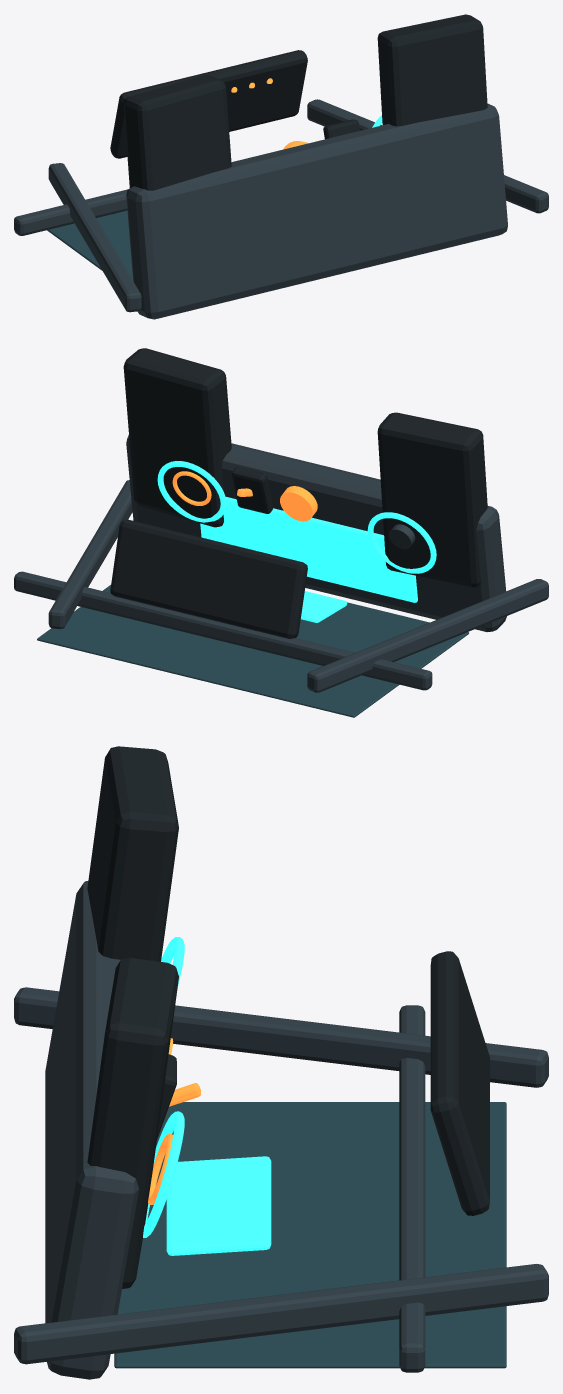
The model's file is cockpit_blockout.glb.
The picture shows the model from 3 angles, top to bottom: view 1: azimuth 30°, elevation 25°; view 2: azimuth 150°, elevation 25°; view 3: azimuth 270°, elevation 25°; orthographic projection. The views are drawn at different scales.
Parts seen in each view (by area): view 1: DashboardLower, SideConsole_+1, SideConsole_-1, OverheadPanel, CanopyStrut_-1, CanopyStrut_+1, CanopyCrossbar, CanopyReference, LockSwitchBase; view 2: CanopyReference, OverheadPanel, SideConsole_-1, SideConsole_+1, DashboardLower, DashboardInset, CanopyCrossbar, CanopyStrut_-1, CanopyStrut_+1, LockSwitchBase, AttitudeRing, VectorCageRing (+4 smaller); view 3: CanopyReference, DashboardLower, CanopyStrut_+1, SideConsole_-1, SideConsole_+1, CanopyStrut_-1, OverheadPanel, ScannerDisplay, CanopyCrossbar, AttitudeRing, AttitudeInnerRing.
Part boxes in pixels (x1,y1,x2,y2): DashboardLower: [126, 103, 507, 319]; SideConsole_+1: [377, 14, 487, 126]; SideConsole_-1: [123, 75, 231, 190]; OverheadPanel: [110, 50, 307, 158]; CanopyStrut_-1: [48, 163, 141, 312]; CanopyStrut_+1: [307, 99, 548, 213]; CanopyCrossbar: [14, 189, 127, 235]; CanopyReference: [47, 210, 133, 280]; LockSwitchBase: [323, 119, 359, 139]; CanopyReference: [37, 585, 468, 717]; OverheadPanel: [110, 519, 307, 638]; SideConsole_-1: [377, 412, 487, 587]; SideConsole_+1: [123, 348, 231, 527]; DashboardLower: [126, 435, 506, 631]; DashboardInset: [200, 497, 417, 602]; CanopyCrossbar: [14, 571, 432, 690]; CanopyStrut_-1: [307, 579, 548, 692]; CanopyStrut_+1: [48, 480, 132, 629]; LockSwitchBase: [231, 467, 273, 513]; AttitudeRing: [157, 461, 226, 522]; VectorCageRing: [367, 512, 436, 573]; CanopyReference: [114, 1102, 506, 1368]; DashboardLower: [45, 881, 139, 1379]; CanopyStrut_+1: [14, 1264, 548, 1364]; SideConsole_-1: [87, 746, 178, 961]; SideConsole_+1: [87, 957, 178, 1288]; CanopyStrut_-1: [14, 987, 548, 1087]; OverheadPanel: [430, 951, 489, 1215]; ScannerDisplay: [166, 1156, 271, 1255]; CanopyCrossbar: [399, 1005, 425, 1372]; AttitudeRing: [143, 1111, 184, 1237]; AttitudeInnerRing: [148, 1134, 173, 1204].
Bounding box in the file's own units: 5.71 × 2.67 × 3.68.
